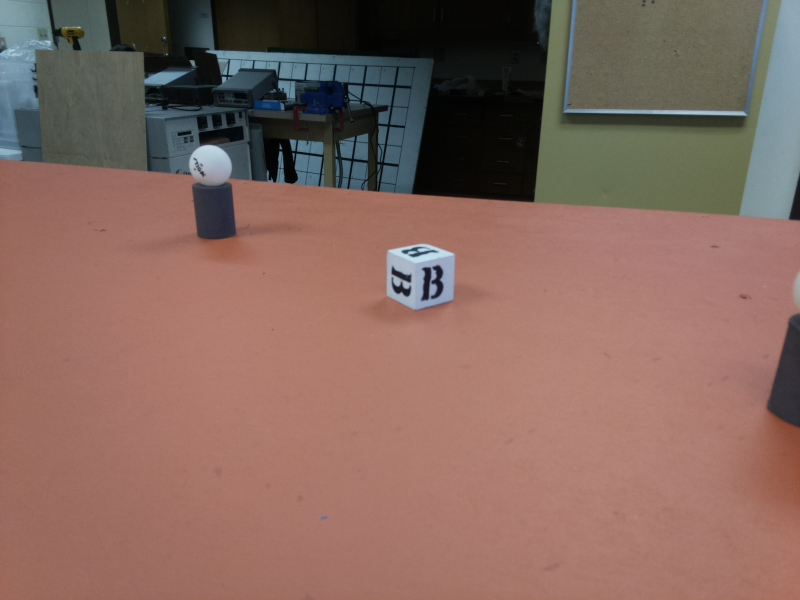blockB: (378, 239, 466, 317)
obstacle: (184, 145, 243, 243)
